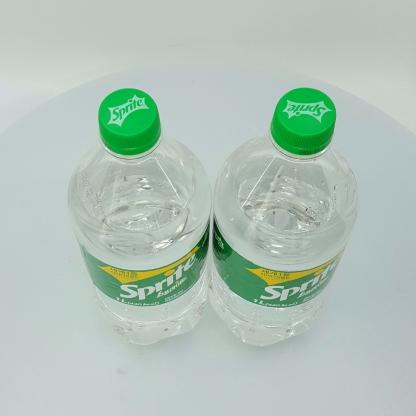--------1L: (209, 88, 359, 347), (67, 89, 212, 345)
